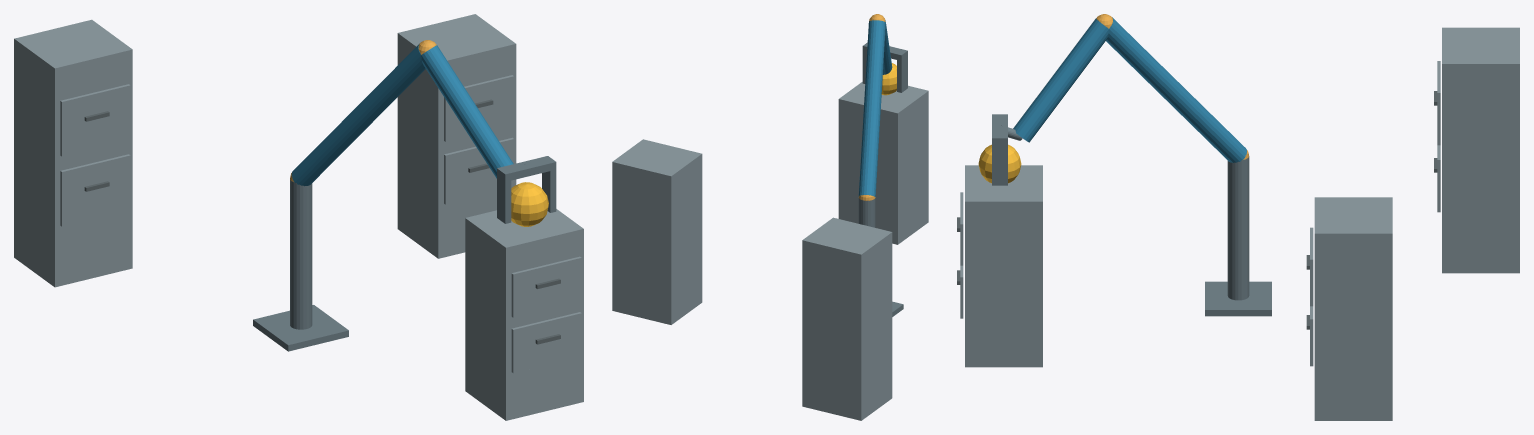
3 views of the same model, side by side, from view 1: azimuth 30°, elevation 25°; view 2: azimuth 150°, elevation 25°; view 3: azimuth 270°, elevation 25° (orthographic). The views are drawn at different scales.
Visible parts, largest first — view 1: cabinet_3 body, cabinet_1 body, cabinet_2 body, moving link 1, cabinet_3 drawer front, cabinet_3 drawer front.001, fixed post, moving link 2, cabinet_1 drawer front, cabinet_1 drawer front.001, cabinet_2 drawer front, cabinet_2 drawer front.001 (+4 smaller); view 2: cabinet_3 body, cabinet_2 body, cabinet_1 body, moving link 1, fixed post, ball ball_1, gripper finger -1; view 3: cabinet_3 body, cabinet_2 body, cabinet_1 body, moving link 1, fixed post, moving link 2, pedestal, ball ball_1, gripper finger 1.
Boxes of the visible parts, x1,y1,x2,y2 form: cabinet_3 body: [14, 19, 132, 287]; cabinet_1 body: [465, 209, 583, 420]; cabinet_2 body: [397, 14, 516, 258]; moving link 1: [291, 44, 425, 186]; cabinet_3 drawer front: [60, 154, 130, 226]; cabinet_3 drawer front.001: [60, 84, 130, 156]; fixed post: [290, 179, 312, 329]; moving link 2: [421, 45, 513, 178]; cabinet_1 drawer front: [511, 312, 581, 372]; cabinet_1 drawer front.001: [511, 256, 581, 317]; cabinet_2 drawer front: [444, 137, 513, 204]; cabinet_2 drawer front.001: [444, 75, 513, 141]; cabinet_3 body: [802, 217, 892, 420]; cabinet_2 body: [612, 139, 702, 324]; cabinet_1 body: [838, 82, 928, 244]; moving link 1: [858, 20, 885, 196]; fixed post: [858, 198, 875, 227]; ball ball_1: [881, 63, 896, 95]; gripper finger -1: [897, 56, 907, 92]; cabinet_3 body: [1442, 27, 1519, 273]; cabinet_2 body: [1314, 197, 1392, 420]; cabinet_1 body: [965, 165, 1042, 367]; moving link 1: [1106, 17, 1246, 162]; fixed post: [1227, 156, 1249, 300]; moving link 2: [1013, 18, 1108, 142]; pedestal: [1205, 281, 1271, 316]; ball ball_1: [978, 144, 1021, 183]; gripper finger 1: [992, 145, 1007, 185].
Bounding box in the file's own units: 1.62 × 1.29 × 2.1.
